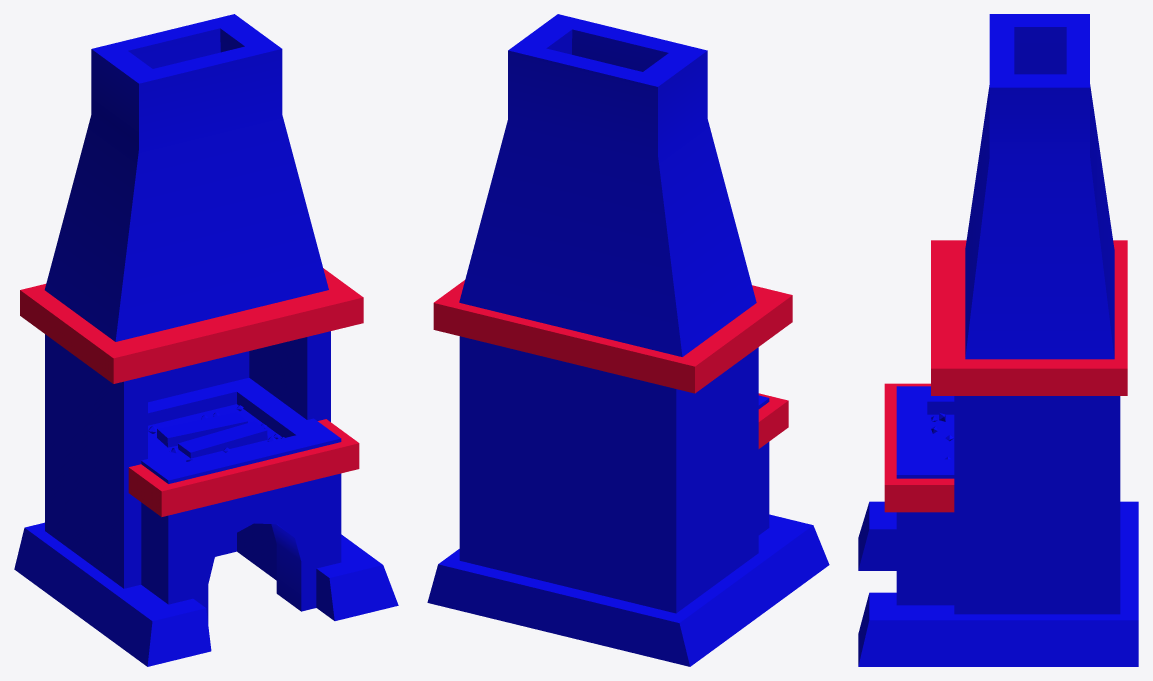
The model's file is CastingRoom_Oven_2.fbx.
3 views of the same model, side by side, from view 1: azimuth 30°, elevation 25°; view 2: azimuth 150°, elevation 25°; view 3: azimuth 270°, elevation 25° (orthographic). The views are drawn at different scales.
Parts seen in each view (by area): view 1: CastingRoom_Oven_2; view 2: CastingRoom_Oven_2; view 3: CastingRoom_Oven_2.
Boxes of the visible parts, left/top/right/bottom form: CastingRoom_Oven_2: left=14, top=14, right=398, bottom=666; CastingRoom_Oven_2: left=427, top=14, right=829, bottom=666; CastingRoom_Oven_2: left=858, top=14, right=1138, bottom=666.
Bounding box in the file's own units: 655 × 1306 × 602.
